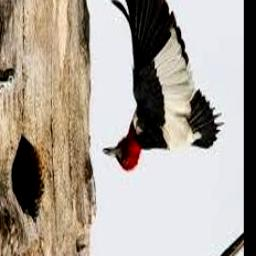Woodpecker: (104, 0, 225, 171)
